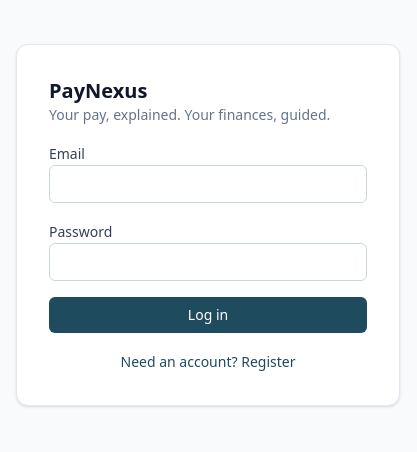
AuthScreen › shows a distinct rate-limit message for a 429, not the credentials message
The width and height of the screenshot is (417, 452).
Step 1. Type "user@example.com" into the field labelled "Email" → (208, 184), box [49,165,367,203]
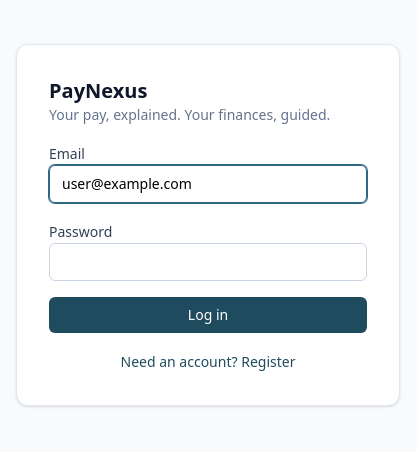
Step 2. Type "hunter22" into the password field labelled "Password" → (208, 262), box [49,243,367,281]
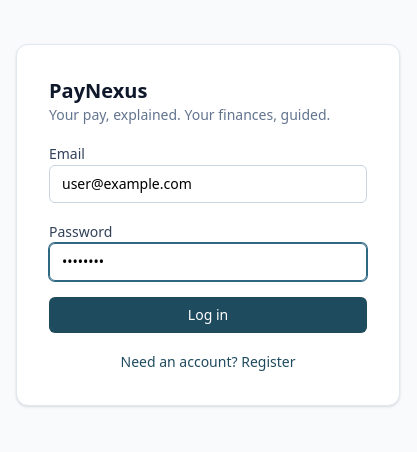
Step 3. Click the button "Log in" → (208, 315), box [49,297,367,333]
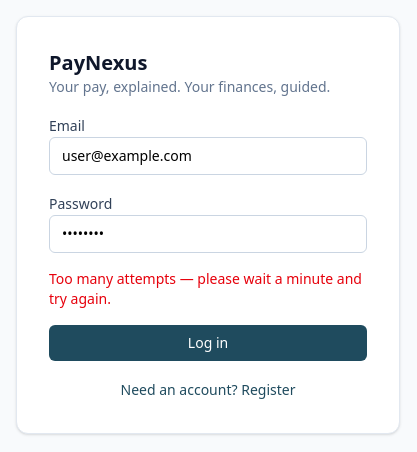
Expected: the text "Too many attempts — please wait a minute and try again." is shown, [49,269,367,309]
